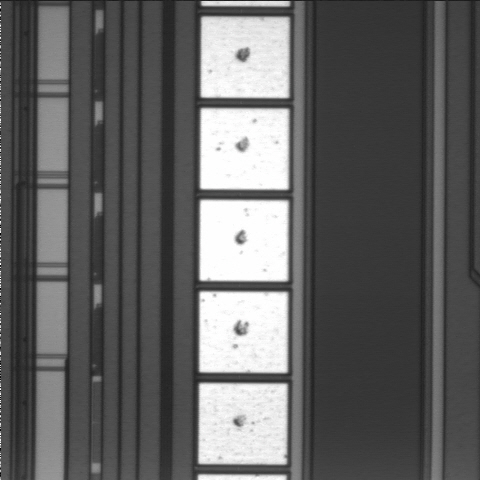pad: (200, 108, 289, 190), (199, 291, 288, 373), (200, 200, 289, 281), (198, 383, 287, 464), (201, 17, 289, 98)
